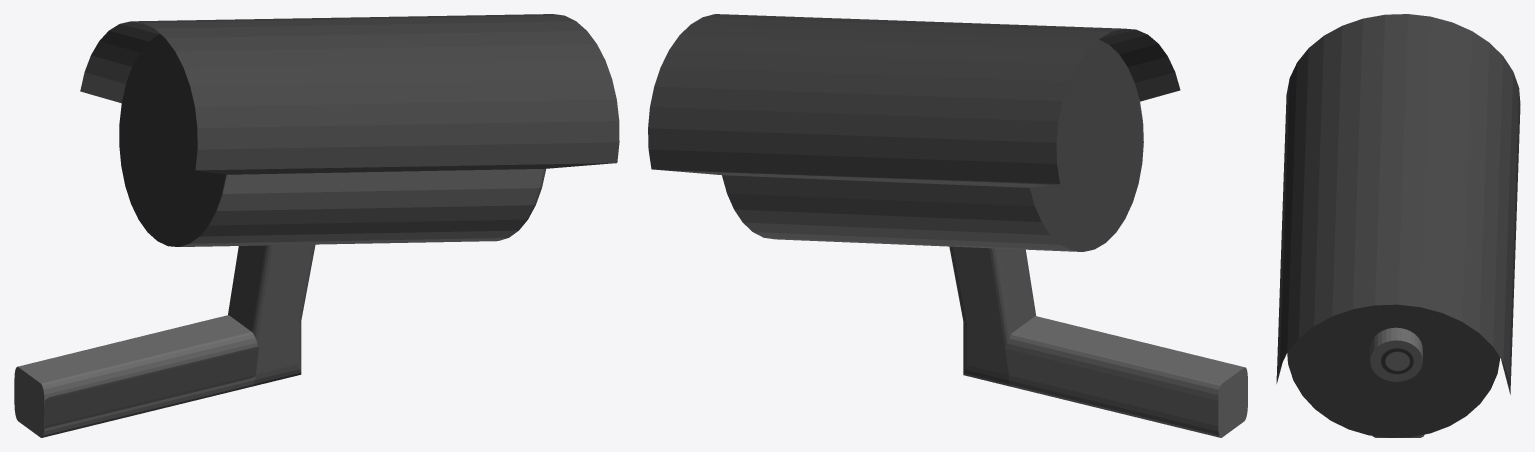
File: Camera.fbx
The picture shows the model from 3 angles, left to right: view 1: azimuth 30°, elevation 25°; view 2: azimuth 150°, elevation 25°; view 3: azimuth 270°, elevation 25°; orthographic projection.
Parts seen in each view (by area): view 1: Cylinder, Cube.001; view 2: Cylinder, Cube.001; view 3: Cylinder, Cylinder.001.
Boxes of the visible parts, x1,y1,x2,y2 form: Cylinder: (80,14,619,246); Cube.001: (14,244,315,437); Cylinder: (648,14,1180,251); Cube.001: (949,246,1247,437); Cylinder: (1276,14,1520,437); Cylinder.001: (1370,327,1422,381).
Bounding box in the file's own units: 421 × 269 × 165.
